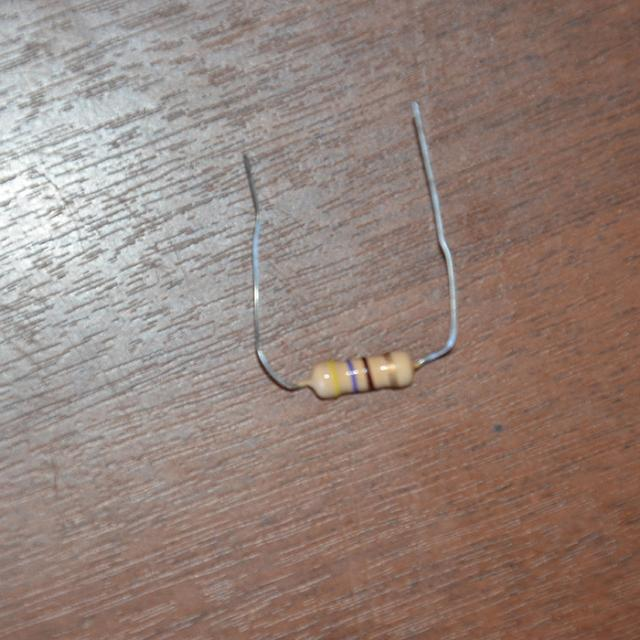brown: (363, 357, 372, 389)
gold: (385, 352, 397, 388)
resistor: (298, 337, 457, 417)
violet: (347, 358, 356, 391)
yellow: (327, 360, 337, 394)
